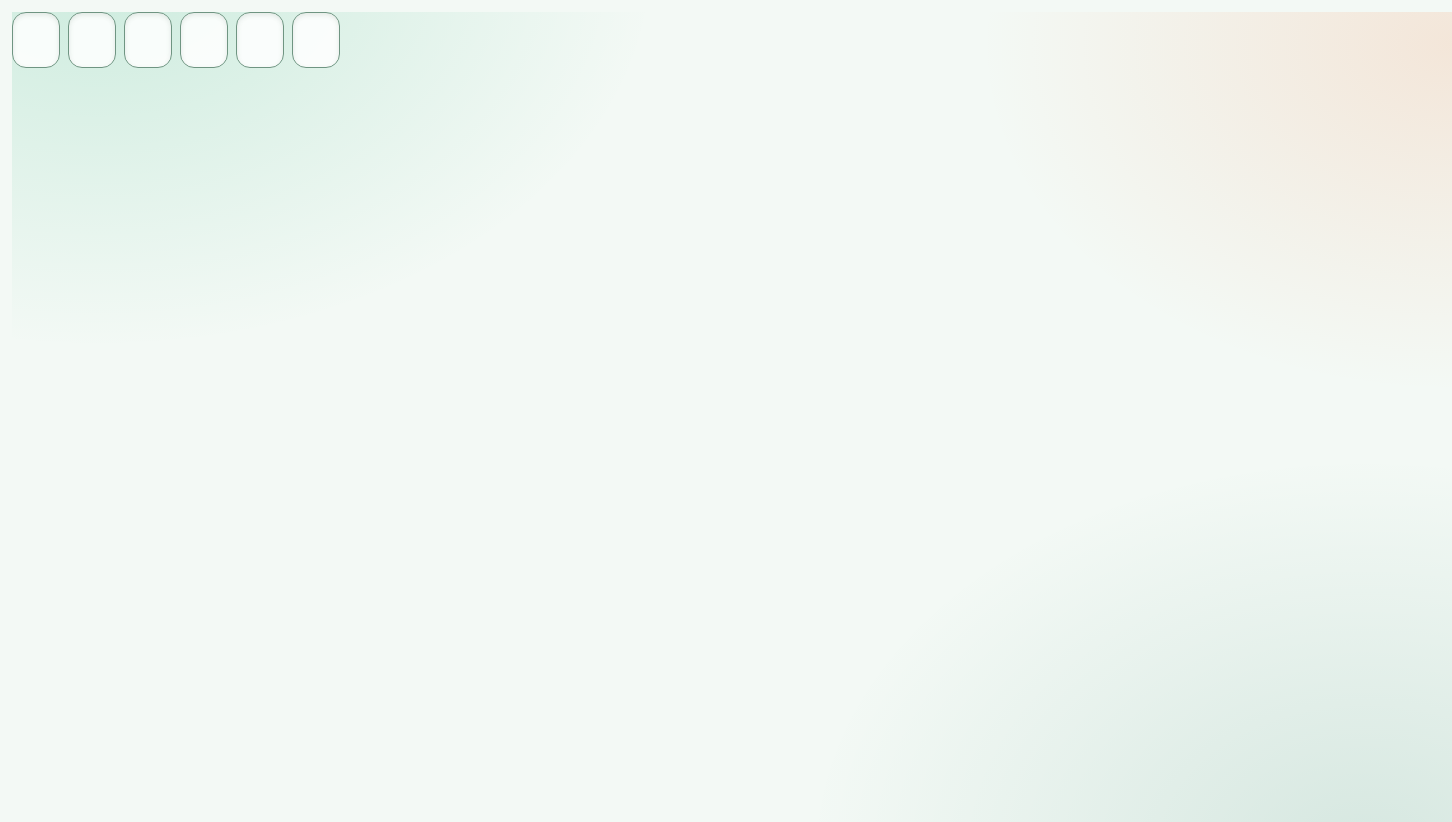
kit Bénin Vert › OTP : la saisie automatique du SMS met le code entier dans la première case
In the field named "Chiffre 1 sur 6": (36, 40) [12, 12, 60, 68], type "698085"
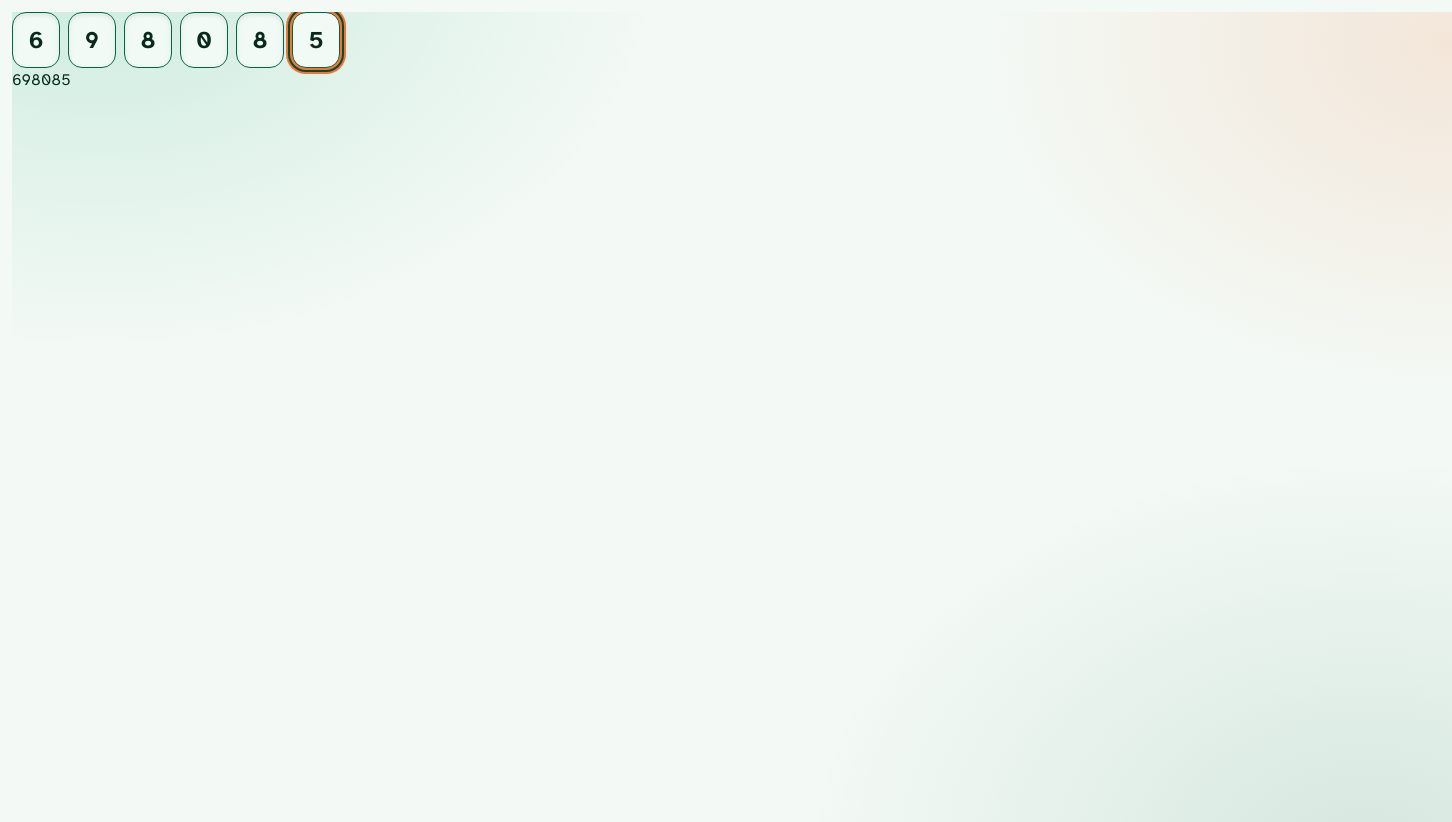
Expected: the text "698085" is shown, [12, 69, 70, 90]
